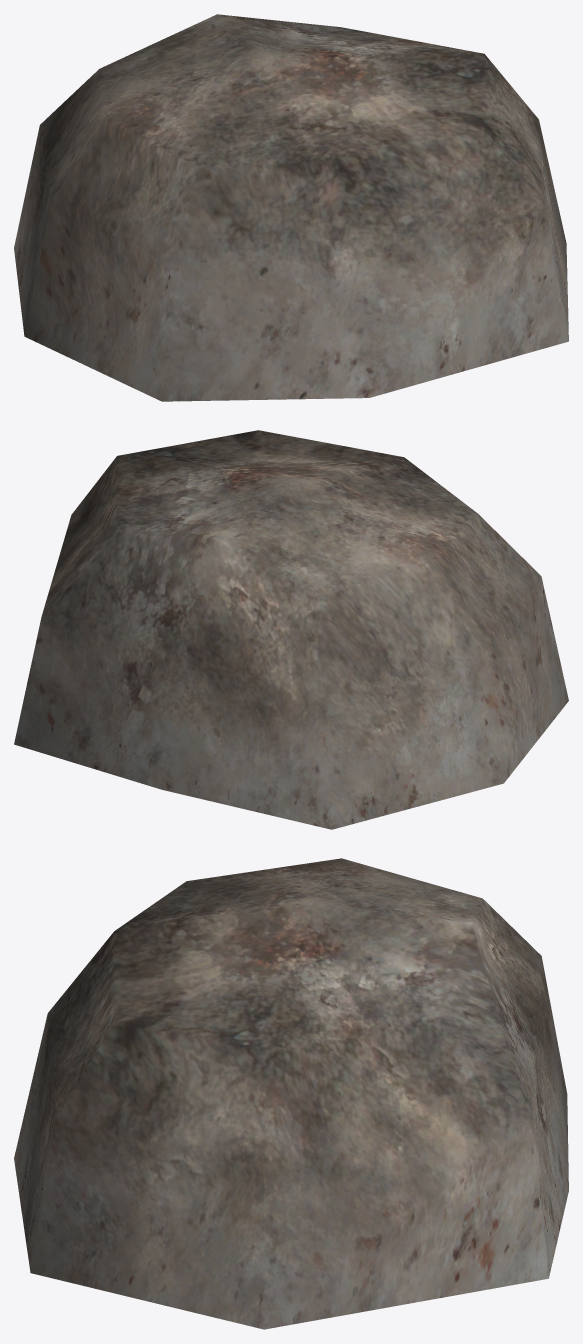
Rendered from rocks01_icy.DAE.
The picture shows the model from 3 angles, top to bottom: view 1: azimuth 30°, elevation 25°; view 2: azimuth 150°, elevation 25°; view 3: azimuth 270°, elevation 25°; orthographic projection. The views are drawn at different scales.
Parts seen in each view (by area): view 1: Box003; view 2: Box003; view 3: Box003.
Part boxes in pixels (x1=…): Box003: x1=14, y1=14, x2=568, y2=401; Box003: x1=14, y1=430, x2=568, y2=829; Box003: x1=14, y1=858, x2=568, y2=1329.
Size of the model in its own units: 0.0187 by 0.00851 by 0.0157.
